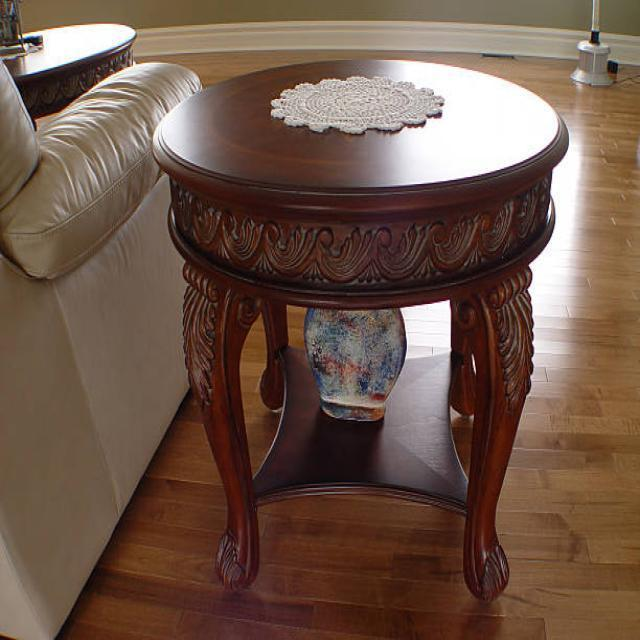table: (150, 55, 569, 602), (0, 20, 137, 119)
